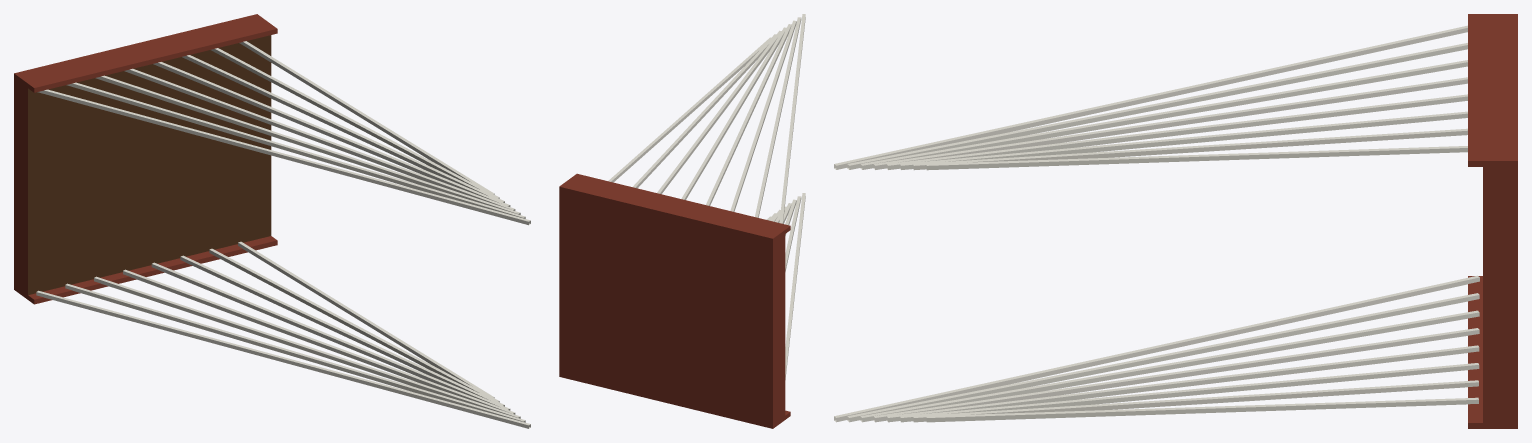
File: inner_south.glb
3 renders of one model, left to right at view 1: azimuth 30°, elevation 25°; view 2: azimuth 150°, elevation 25°; view 3: azimuth 270°, elevation 25°, orthographic. The views are drawn at different scales.
Visible parts, largest first — view 1: bridge_04_inner_south; view 2: bridge_04_inner_south; view 3: bridge_04_inner_south.
Boxes of the visible parts, box(x1,y1,x2,y2) form: bridge_04_inner_south: box(14, 14, 530, 428); bridge_04_inner_south: box(559, 14, 805, 428); bridge_04_inner_south: box(834, 14, 1517, 428).
Size of the model in its own units: 16 by 13.6 by 31.45.
